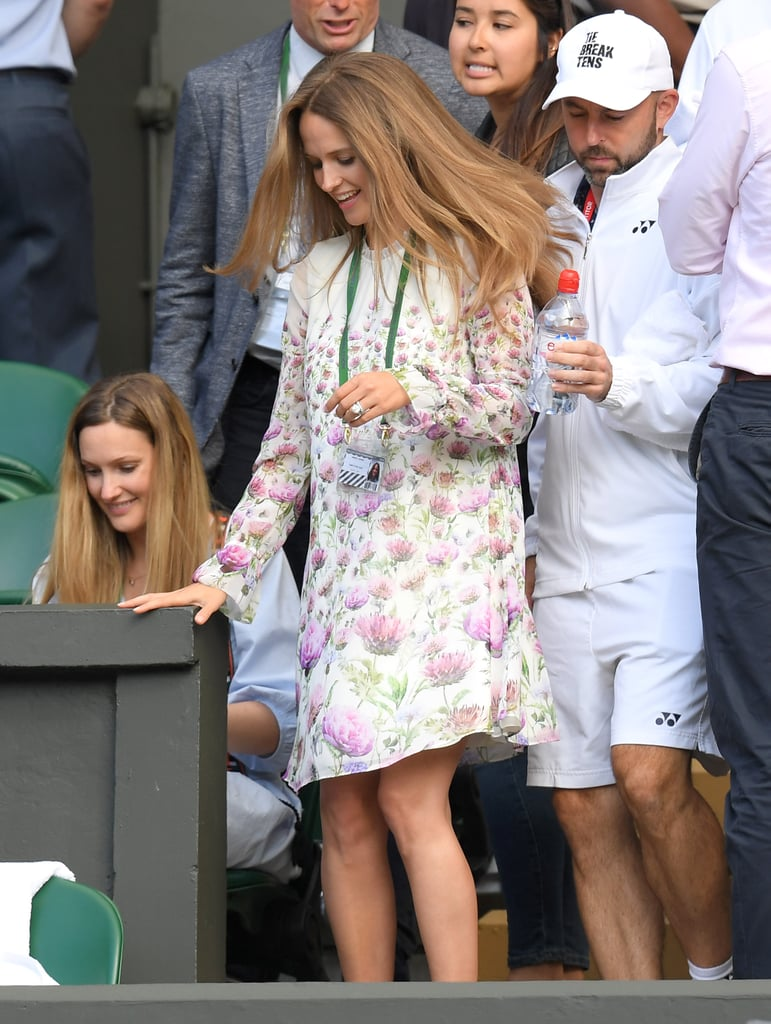Person: (219, 53, 535, 983), (541, 13, 710, 983), (10, 369, 229, 605)
